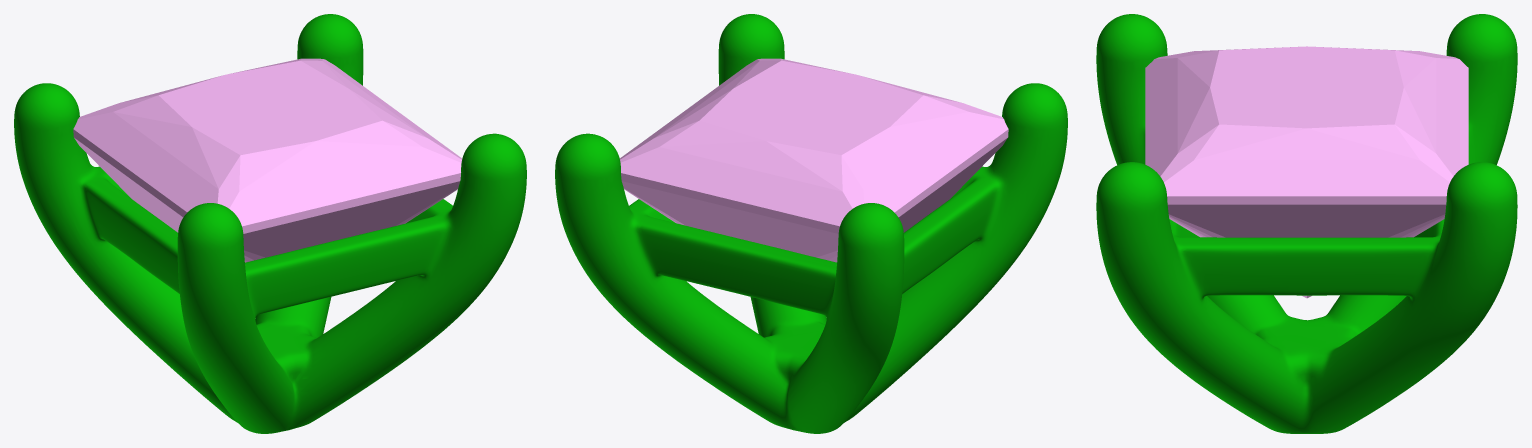
3 renders of one model, left to right at view 1: azimuth 30°, elevation 25°; view 2: azimuth 150°, elevation 25°; view 3: azimuth 270°, elevation 25°, orthographic. The views are drawn at different scales.
Visible parts, largest first — view 1: Metal01, Diamond_Princess; view 2: Metal01, Diamond_Princess; view 3: Metal01, Diamond_Princess.
Boxes of the visible parts, <box> form: Metal01: <box>14,14,526,433</box>; Diamond_Princess: <box>73,58,462,262</box>; Metal01: <box>555,14,1067,433</box>; Diamond_Princess: <box>619,58,1008,262</box>; Metal01: <box>1096,14,1517,433</box>; Diamond_Princess: <box>1145,46,1468,298</box>.
Bounding box in the file's own units: 5.69 × 4.94 × 5.7.
